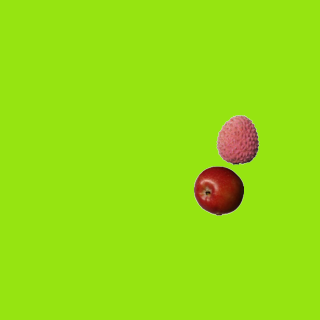Apple Braeburn: (193, 165, 243, 215)
Lychee: (212, 114, 262, 164)
